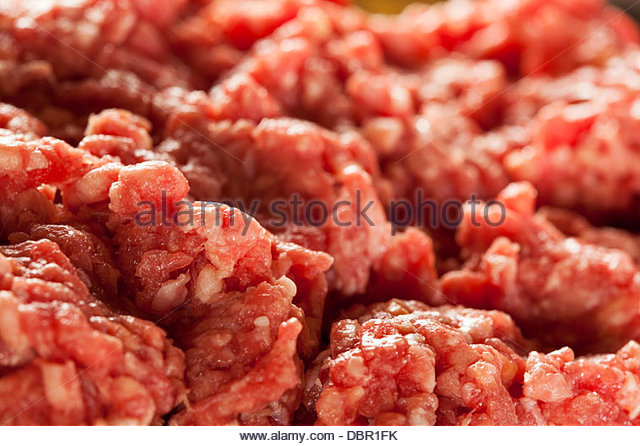ground_beef: (50, 33, 595, 398)
